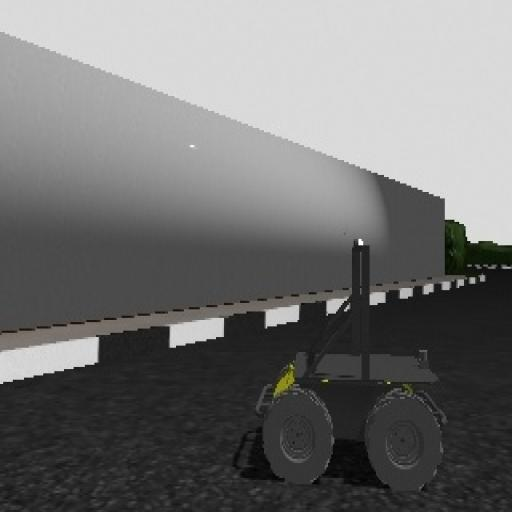huskya200: (228, 228, 472, 490)
